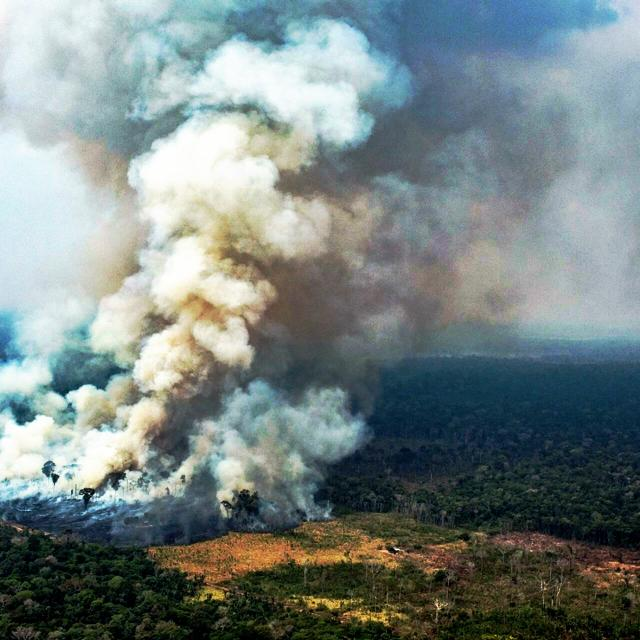asap: (1, 5, 435, 521)
